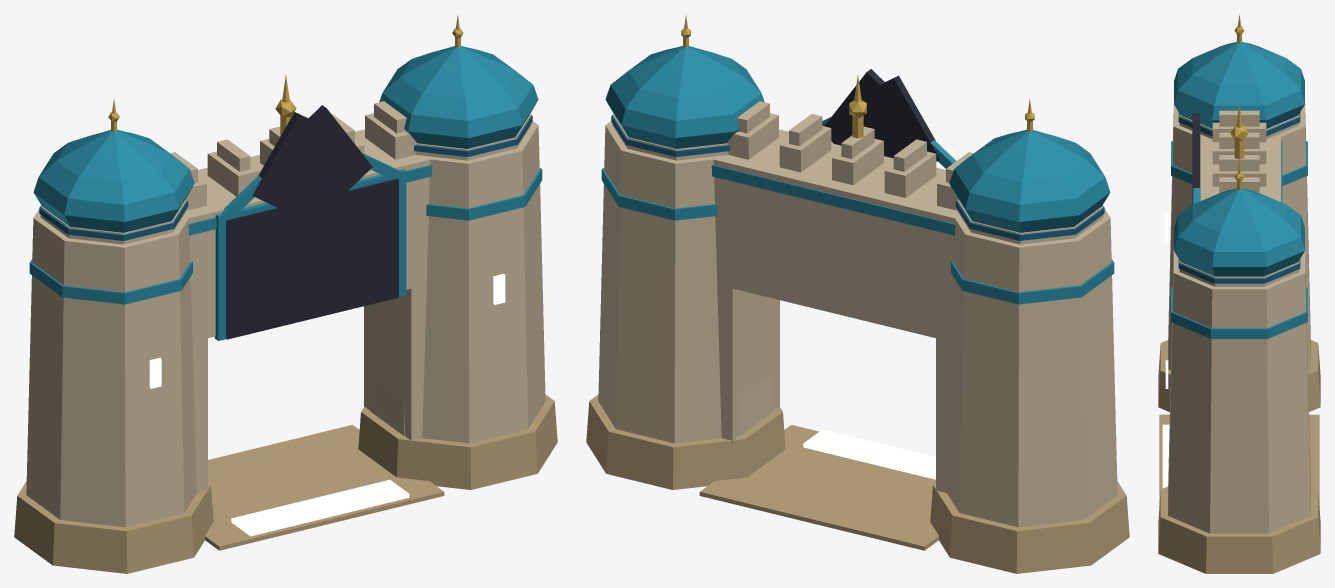
File: gate_t3.glb
3 renders of one model, left to right at view 1: azimuth 30°, elevation 25°; view 2: azimuth 150°, elevation 25°; view 3: azimuth 270°, elevation 25°, orthographic. The views are drawn at different scales.
Parts seen in each view (by area): view 1: body, glow; view 2: body, glow; view 3: body, glow.
Part boxes in pixels (x1,y1,x2,y2): body: (14,14,557,573); glow: (149,274,505,536); body: (586,14,1129,573); glow: (803,429,935,479); body: (1158,14,1320,573); glow: (1162,213,1169,488).
Size of the model in its own units: 3.82 by 3.14 by 1.22.
